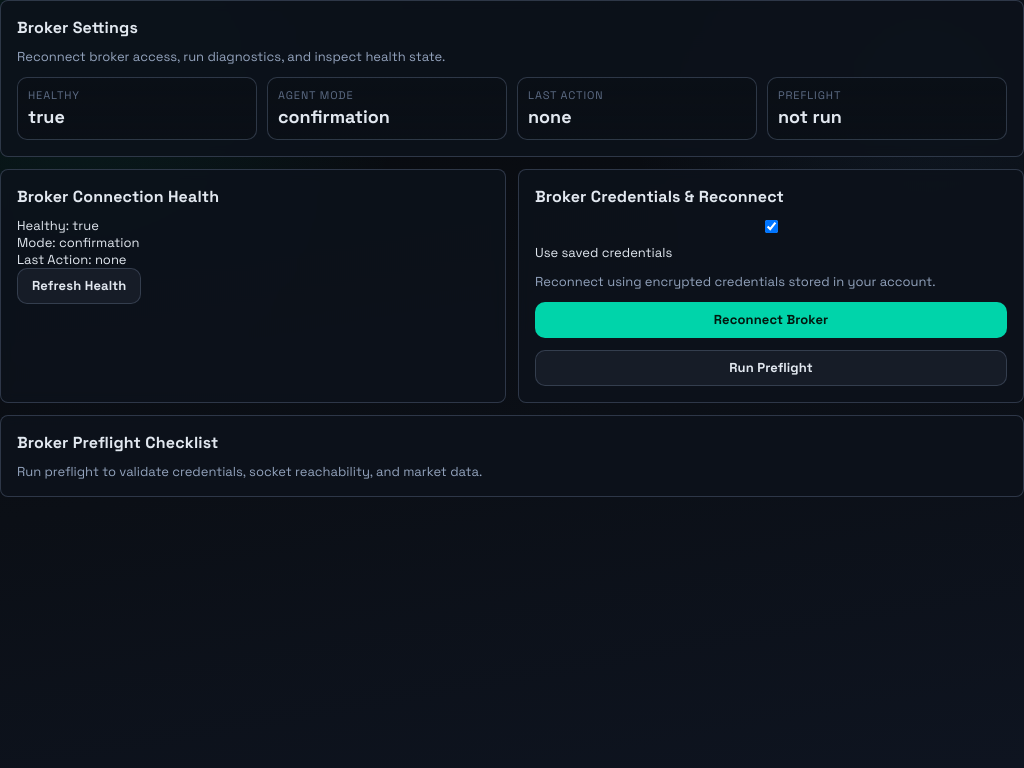
BrokerSettingsPage › blocks submit for invalid numeric fields and renders error
Expected: the heading "Broker Connection Health" is shown, [17,186,219,206]
Click the checkbox labelled "Use saved credentials".
click(772, 226)  # box [539,220,1004,232]
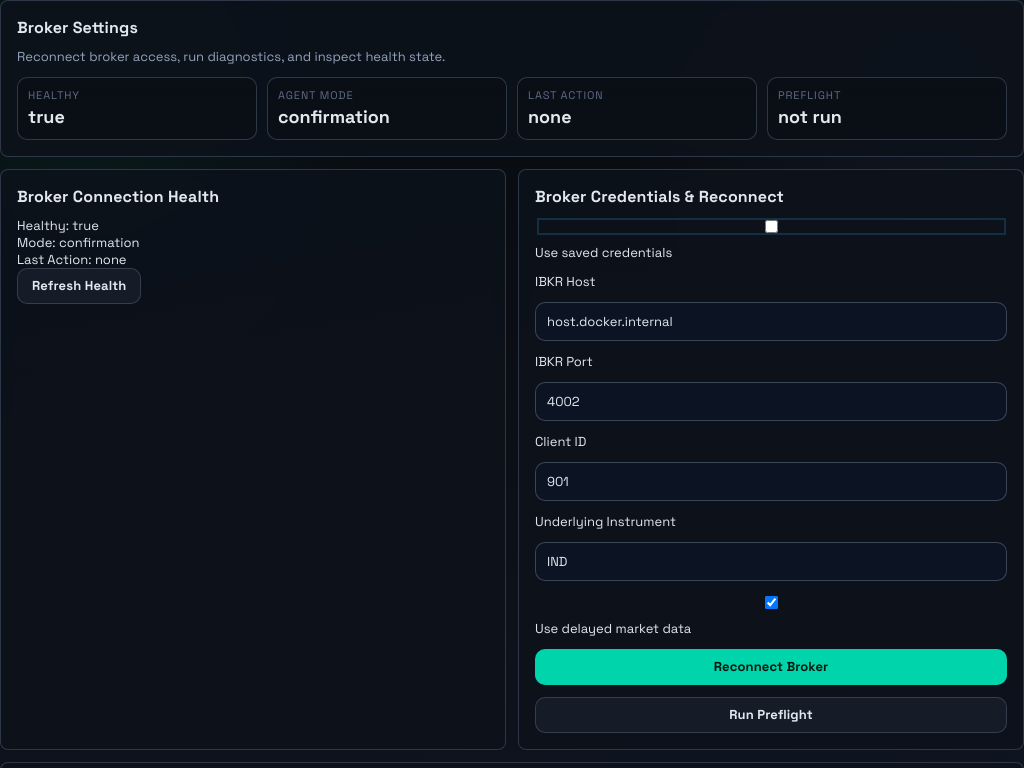
Type "abc" into the field labelled "IBKR Port".
click(771, 401); type("abc")  # box [535,382,1007,420]
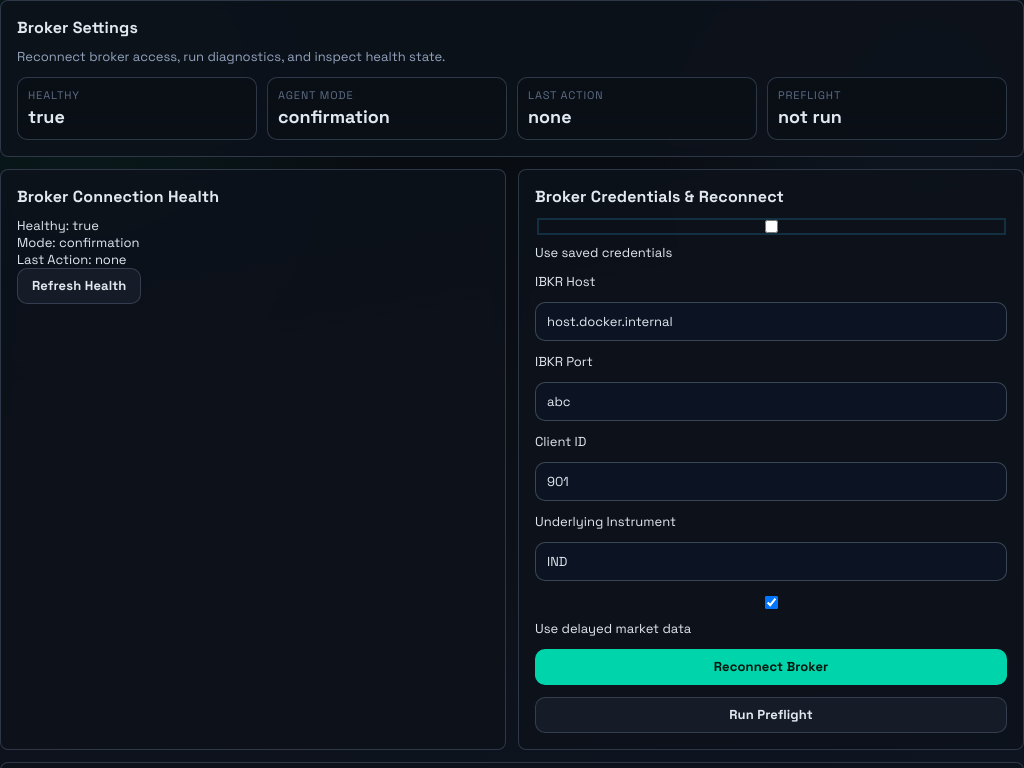
Click the button "Reconnect Broker".
click(771, 666)  # box [535,648,1007,684]
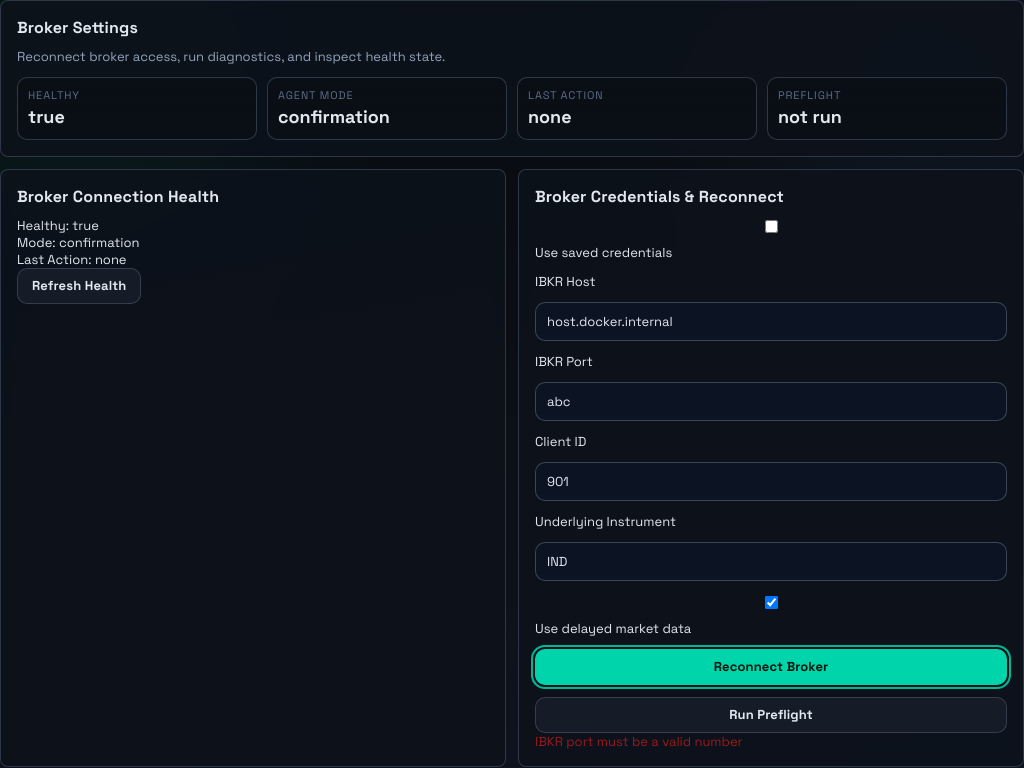
Expected: the text "IBKR port must be a valid number" is shown, [535,732,742,750]
